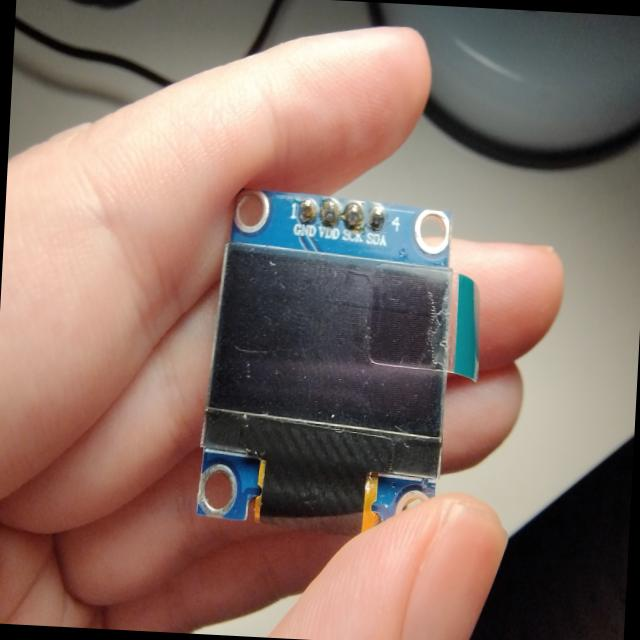oled: (192, 161, 470, 546)
